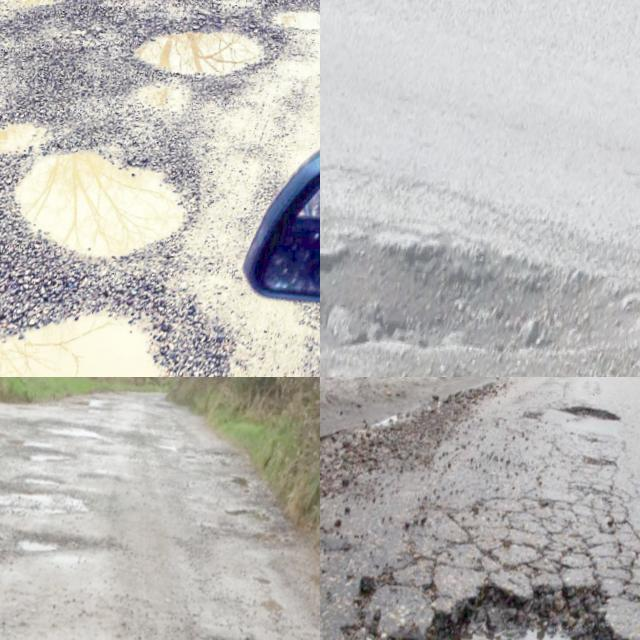Potholes: (0, 37, 302, 342), (320, 125, 640, 377), (338, 498, 640, 640), (0, 244, 283, 377), (4, 395, 143, 501), (548, 377, 639, 466), (1, 500, 93, 586), (218, 488, 298, 562), (0, 454, 47, 548), (184, 421, 249, 478), (186, 613, 275, 640)
